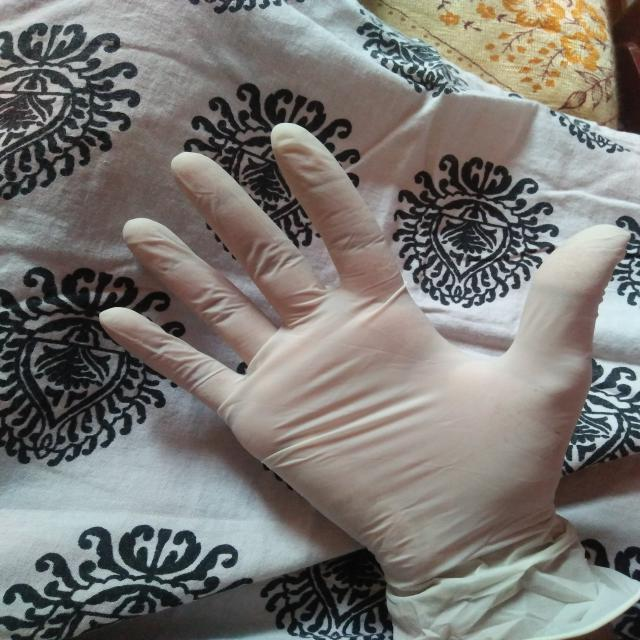glove_hand: (91, 110, 636, 636)
